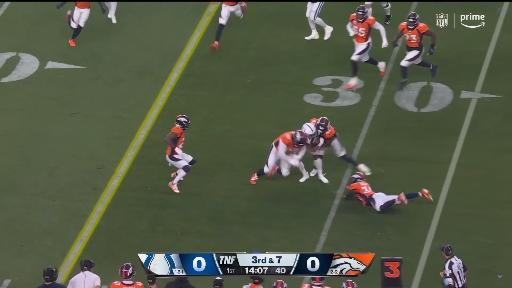Helmet: (119, 263, 135, 279), (292, 130, 307, 147), (302, 123, 317, 139), (316, 117, 329, 135), (407, 12, 419, 30), (176, 115, 190, 130), (356, 5, 367, 22), (351, 172, 365, 183), (311, 277, 324, 286), (342, 280, 357, 287), (273, 280, 287, 287)
Jersey: (399, 22, 428, 51), (350, 14, 375, 43), (347, 182, 374, 205), (274, 132, 296, 150), (171, 126, 185, 149), (110, 281, 143, 287), (320, 126, 335, 139), (76, 2, 90, 8), (302, 284, 325, 287), (223, 2, 238, 5)
Player: (309, 117, 371, 183), (345, 6, 388, 89), (344, 173, 432, 212), (393, 13, 437, 90), (250, 131, 309, 184), (165, 115, 195, 193), (305, 2, 333, 39), (67, 2, 90, 46), (110, 263, 143, 287), (302, 123, 317, 144), (302, 277, 326, 287), (106, 2, 117, 23), (381, 2, 391, 24), (342, 280, 357, 287), (273, 280, 287, 287), (212, 2, 217, 4)
